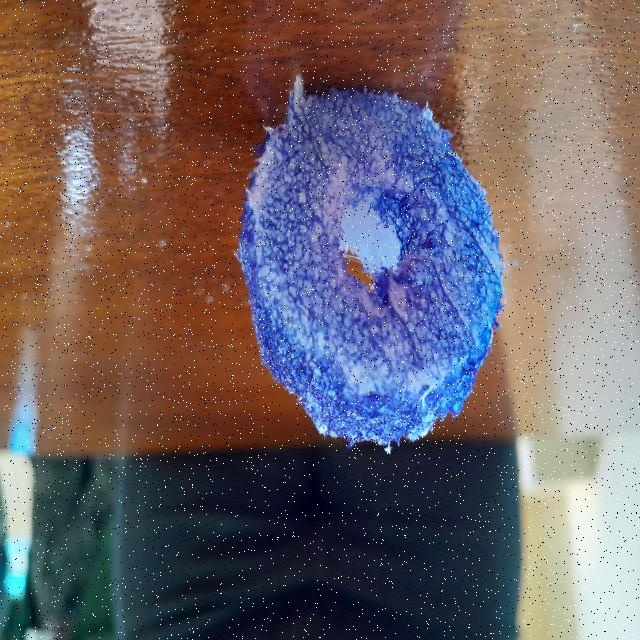wheel: (239, 82, 513, 452)
